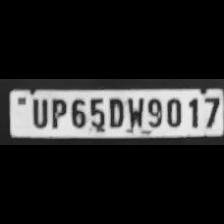0: (162, 96, 184, 128)
1: (184, 95, 202, 129)
5: (88, 94, 106, 130)
6: (68, 97, 86, 129)
7: (199, 95, 221, 129)
9: (145, 96, 163, 128)
D: (105, 96, 123, 130)
P: (47, 97, 66, 129)
U: (28, 97, 48, 129)
W: (126, 96, 144, 130)
